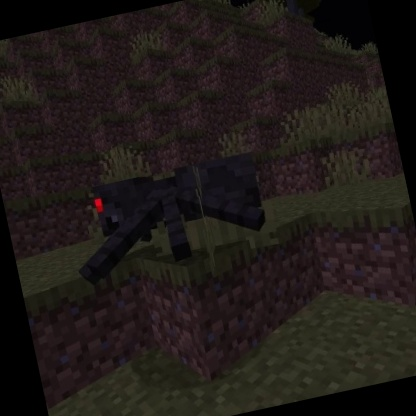spider: (58, 147, 277, 291)
